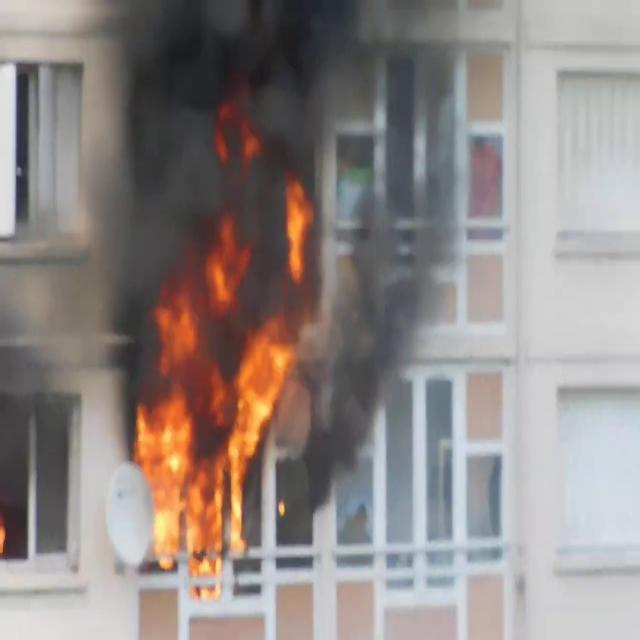Fire: (131, 288, 297, 588)
Smoke: (50, 0, 472, 417)
